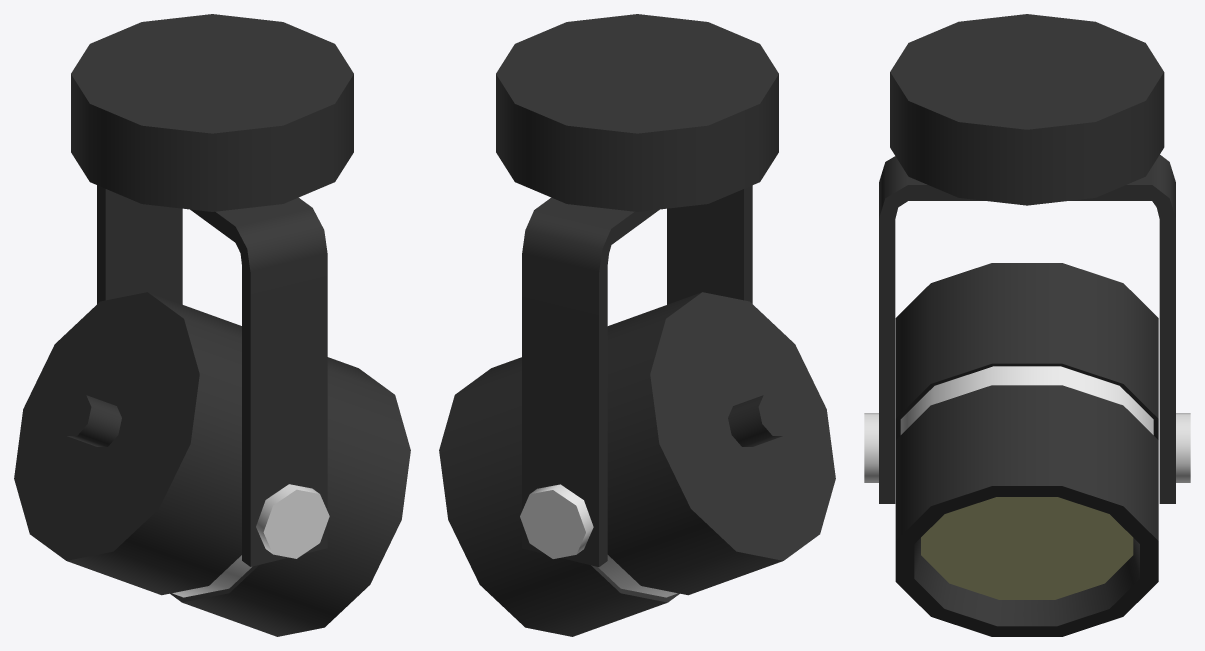
The model's file is SpotLamp.fbx.
3 renders of one model, left to right at view 1: azimuth 30°, elevation 25°; view 2: azimuth 150°, elevation 25°; view 3: azimuth 270°, elevation 25°, orthographic. The views are drawn at different scales.
Parts seen in each view (by area): view 1: SpotLamp, Lamp; view 2: SpotLamp, Lamp; view 3: Lamp, SpotLamp.
Boxes of the visible parts, bbox=[...] form: SpotLamp: bbox=[71, 14, 353, 566]; Lamp: bbox=[14, 292, 410, 636]; SpotLamp: bbox=[496, 14, 778, 566]; Lamp: bbox=[439, 292, 835, 636]; Lamp: bbox=[895, 263, 1158, 636]; SpotLamp: bbox=[864, 14, 1190, 503].
Bounding box in the file's own units: 60.86 × 99.24 × 54.04.
